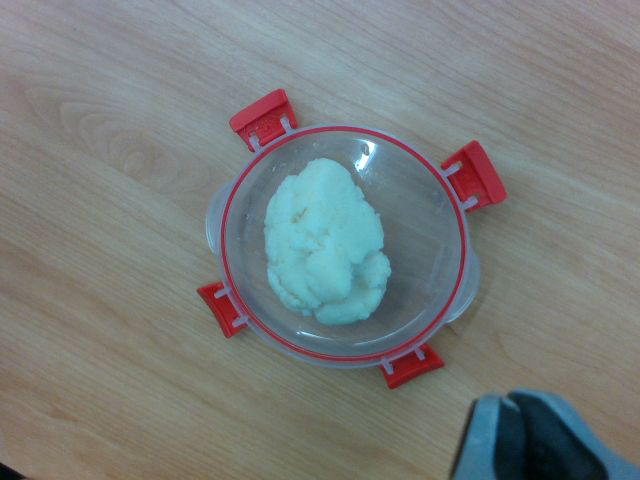mashed_potato: (264, 158, 389, 323)
